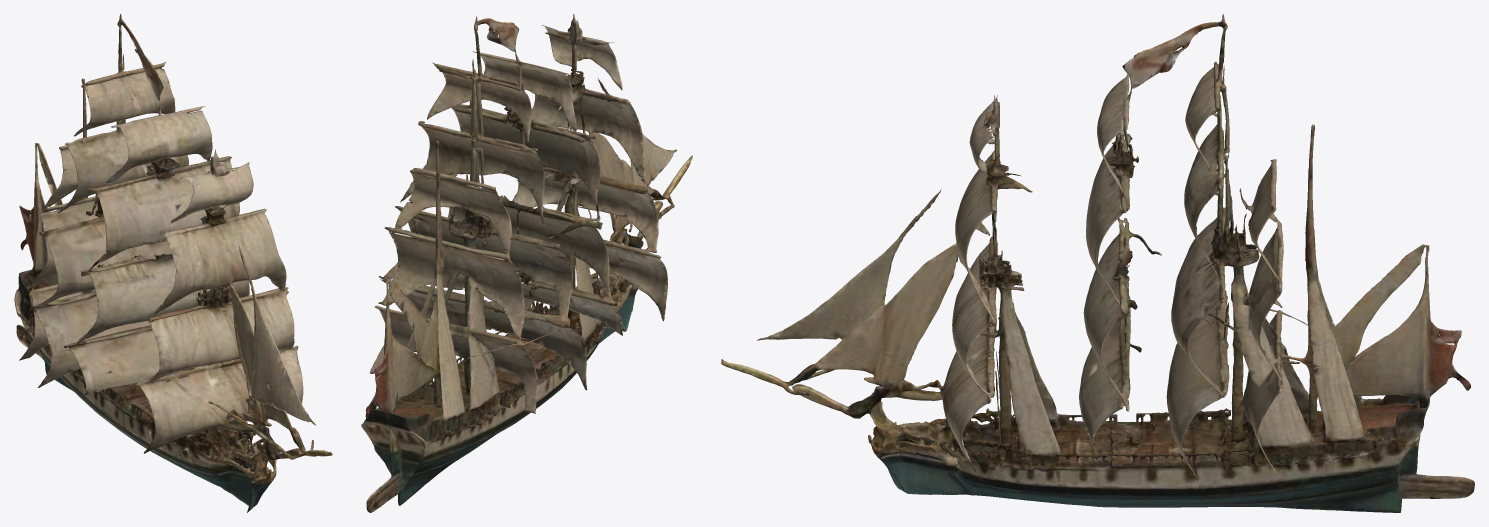
The model's file is ship.glb.
3 renders of one model, left to right at view 1: azimuth 30°, elevation 25°; view 2: azimuth 150°, elevation 25°; view 3: azimuth 270°, elevation 25°, orthographic. The views are drawn at different scales.
Visible parts, largest first — view 1: Mesh_0; view 2: Mesh_0; view 3: Mesh_0.
Boxes of the visible parts, bbox=[...] form: Mesh_0: bbox=[14, 14, 332, 512]; Mesh_0: bbox=[361, 14, 692, 512]; Mesh_0: bbox=[721, 14, 1474, 512].
Size of the model in its own units: 2.3 by 4.71 by 6.46.
Materials: 1 (1 with a texture image).
